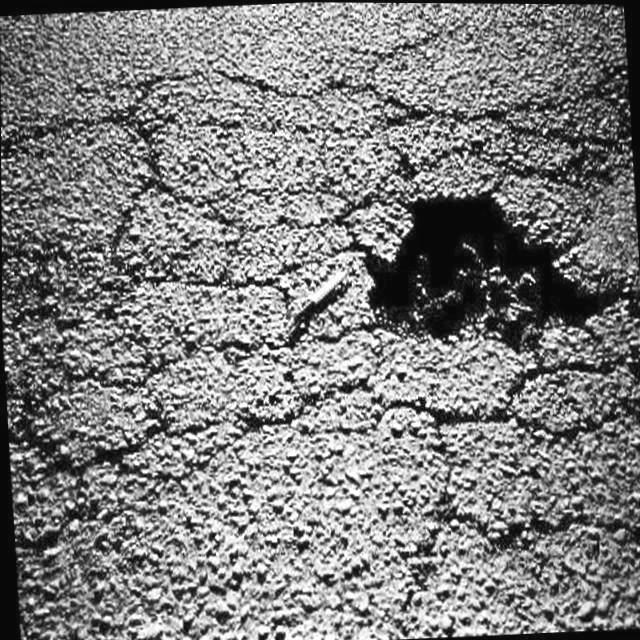Pothole: (377, 167, 604, 354)
